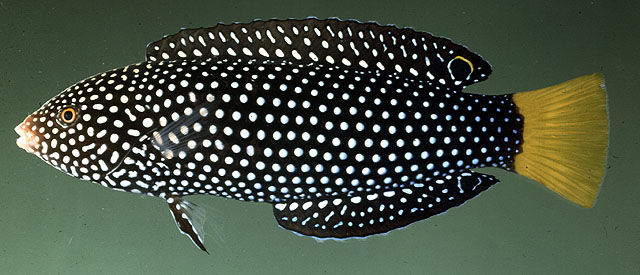fish: (15, 18, 611, 254)
